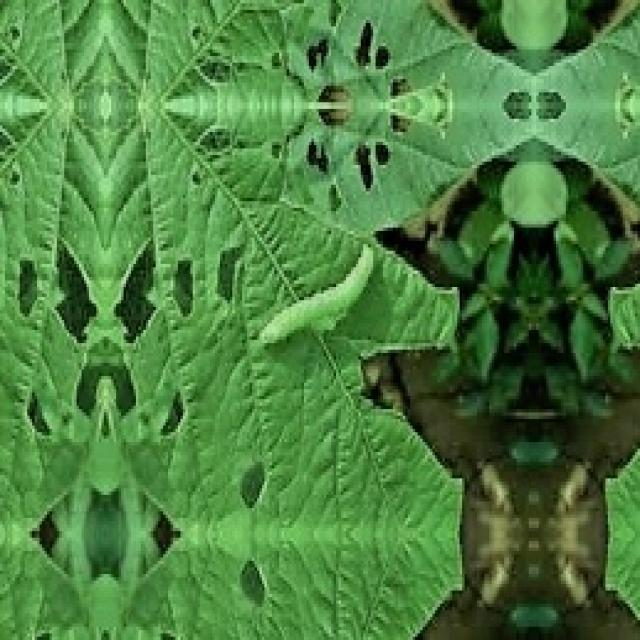armyworm: (258, 238, 378, 360)
